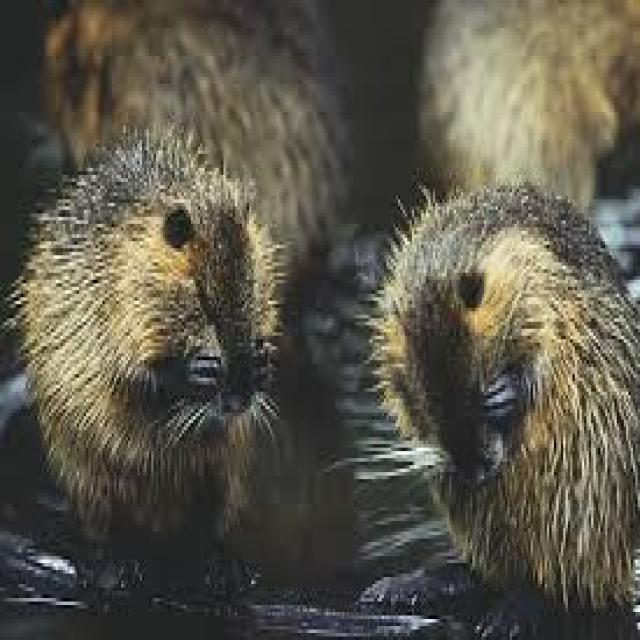rat: (10, 119, 294, 542), (365, 175, 638, 612), (41, 0, 351, 269), (412, 0, 637, 213)
